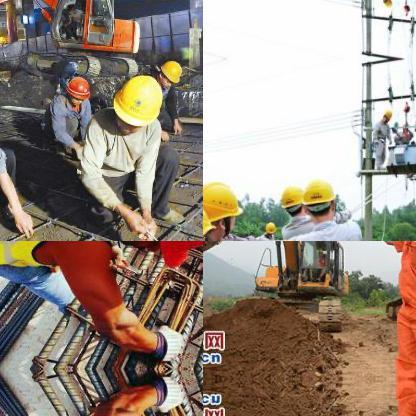Helmet: (110, 74, 162, 132), (203, 175, 247, 240), (296, 170, 336, 219), (277, 176, 307, 218), (155, 58, 181, 90), (62, 74, 88, 102), (262, 217, 274, 235), (381, 107, 393, 121), (381, 0, 394, 8)
